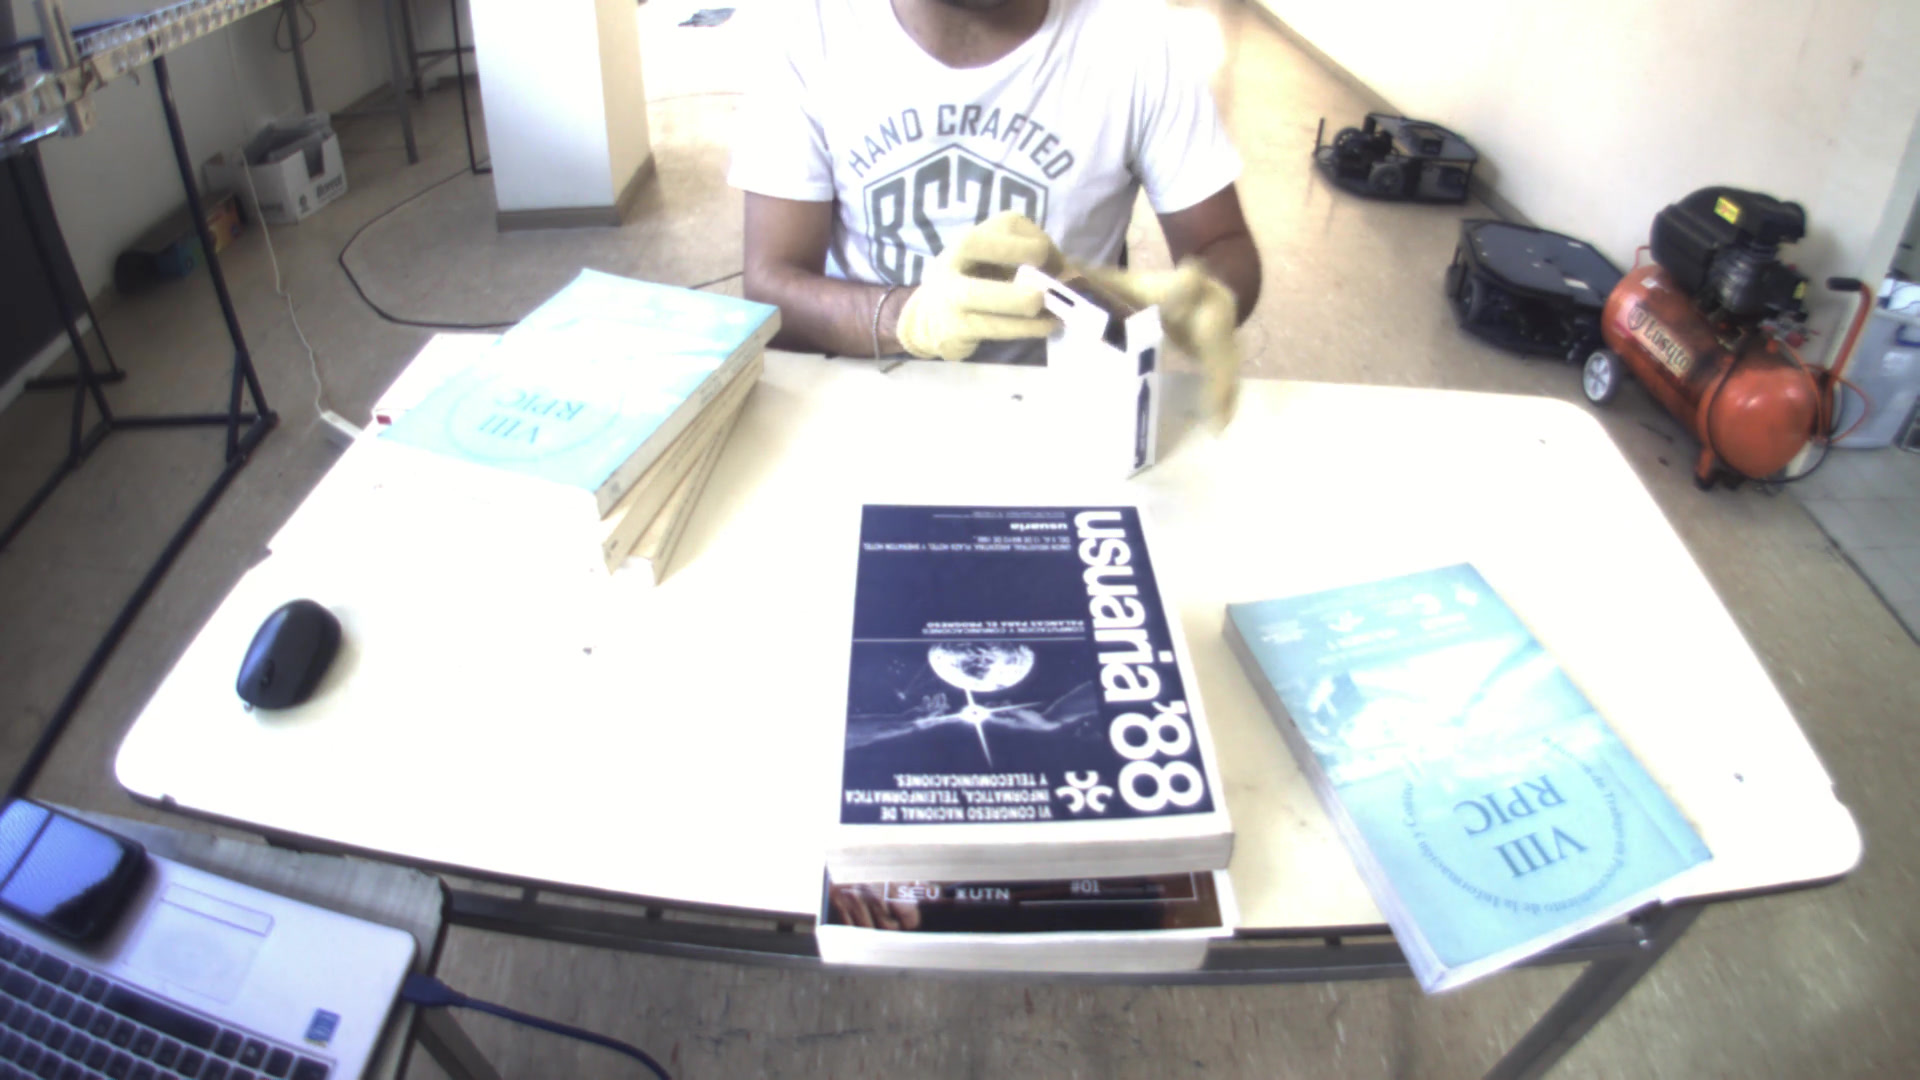hand: (887, 199, 1077, 367), (1096, 258, 1244, 435)
